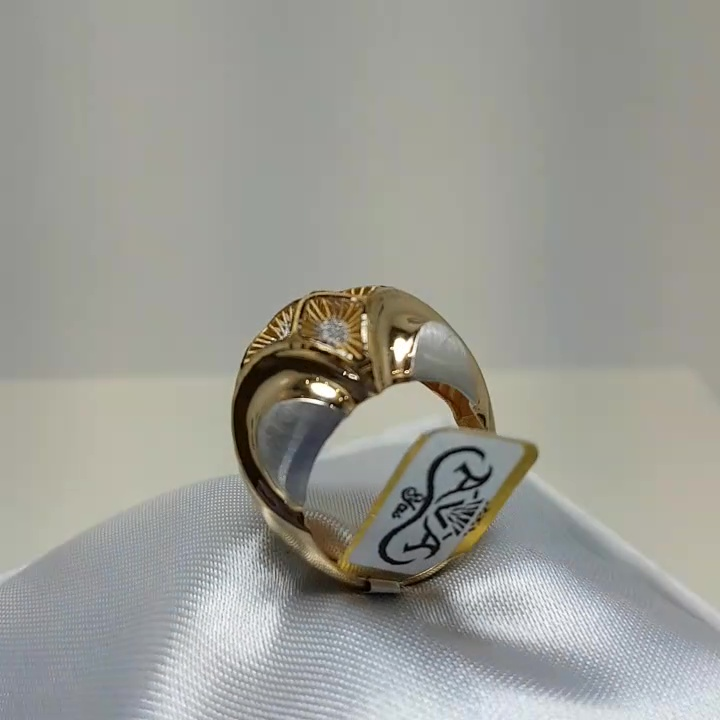Ring 2: (198, 279, 514, 607)
